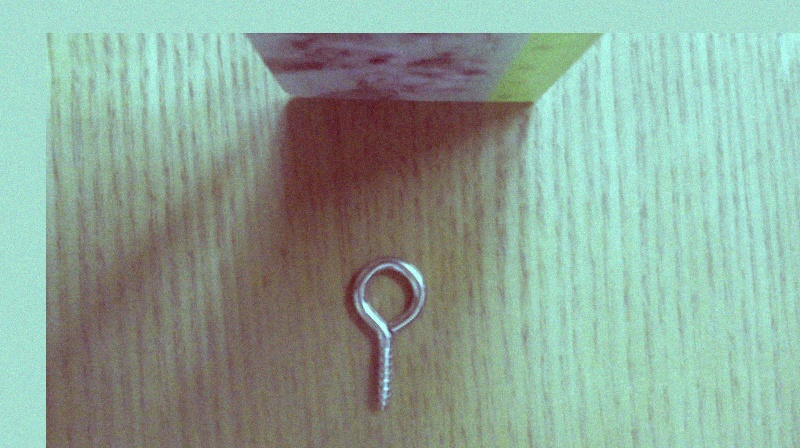O001: (347, 254, 428, 410)
